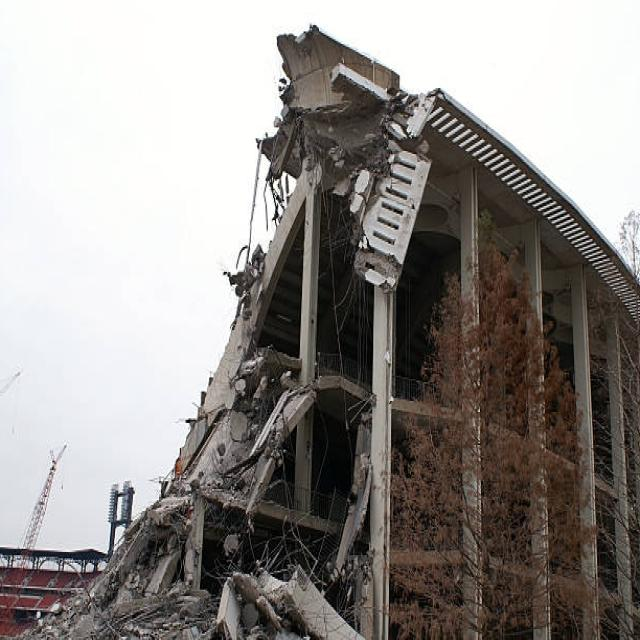Destroyed_building: (21, 1, 638, 640)
